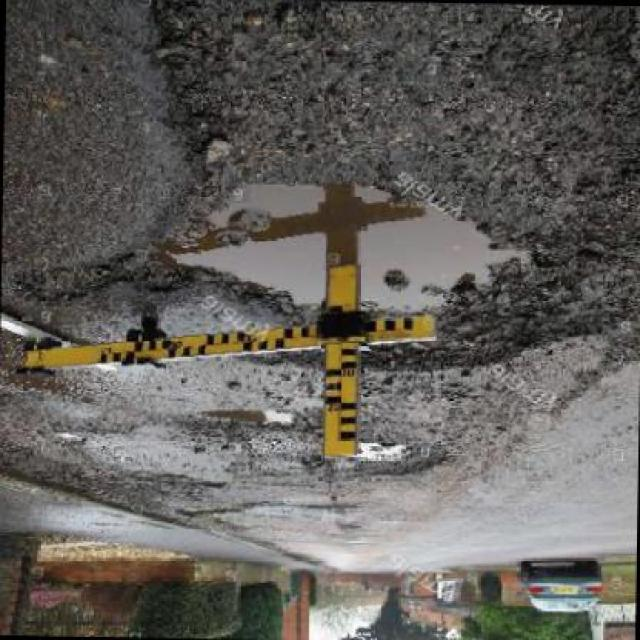pothole1: (134, 109, 638, 385), (302, 436, 448, 489), (188, 407, 302, 435)
